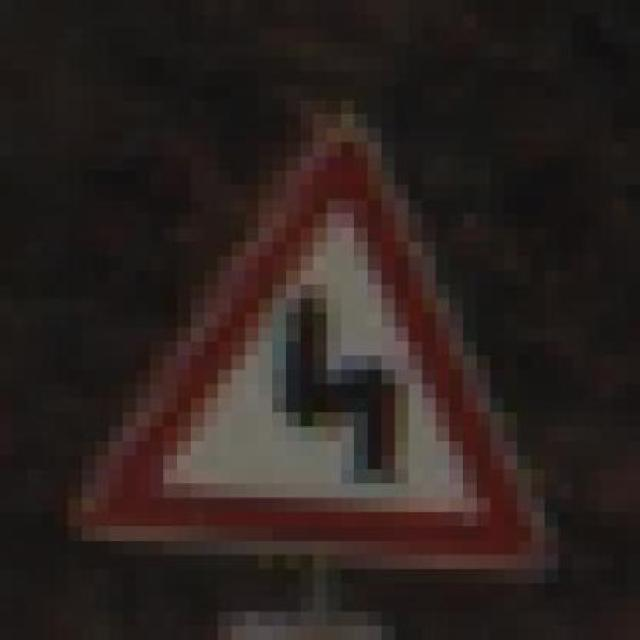Left Zig Zag Traffic: (54, 99, 572, 598)
